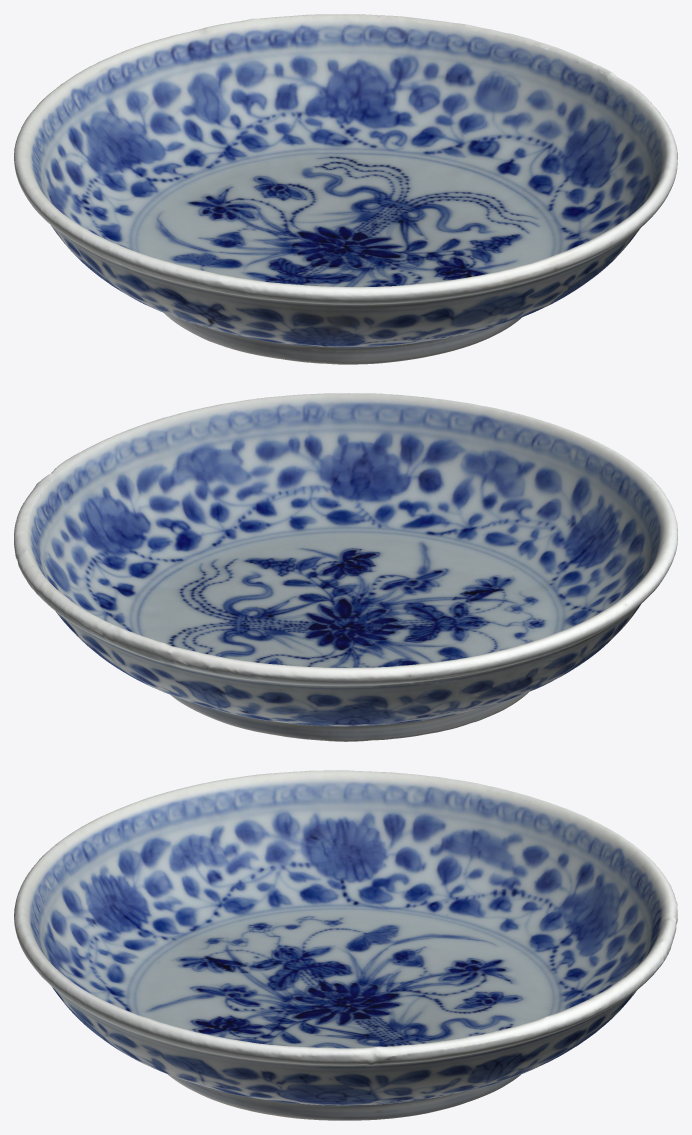
File: plate3D.glb
The picture shows the model from 3 angles, top to bottom: view 1: azimuth 30°, elevation 25°; view 2: azimuth 150°, elevation 25°; view 3: azimuth 270°, elevation 25°; orthographic projection.
Bounding box in the file's own units: 0.2003 × 0.0444 × 0.2003.
Materials: 1 (1 with a texture image).
